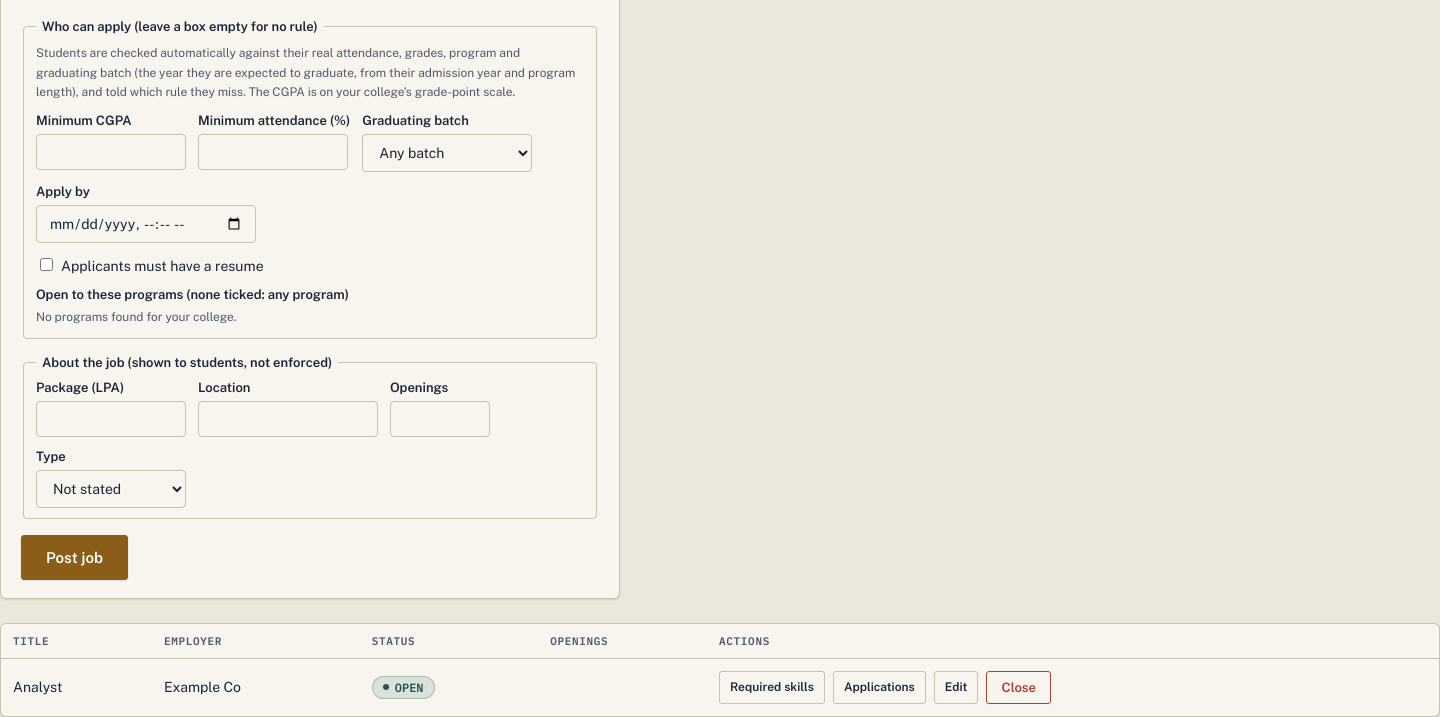
Test case: the placement officer reads the resume an application was made with › offers View resume only where one was attached, and shows it as submitted
The image size is (1440, 717).
(page scrolled)
Click the button "Applications" at (879, 687), box [833, 671, 926, 704]
(page scrolled)
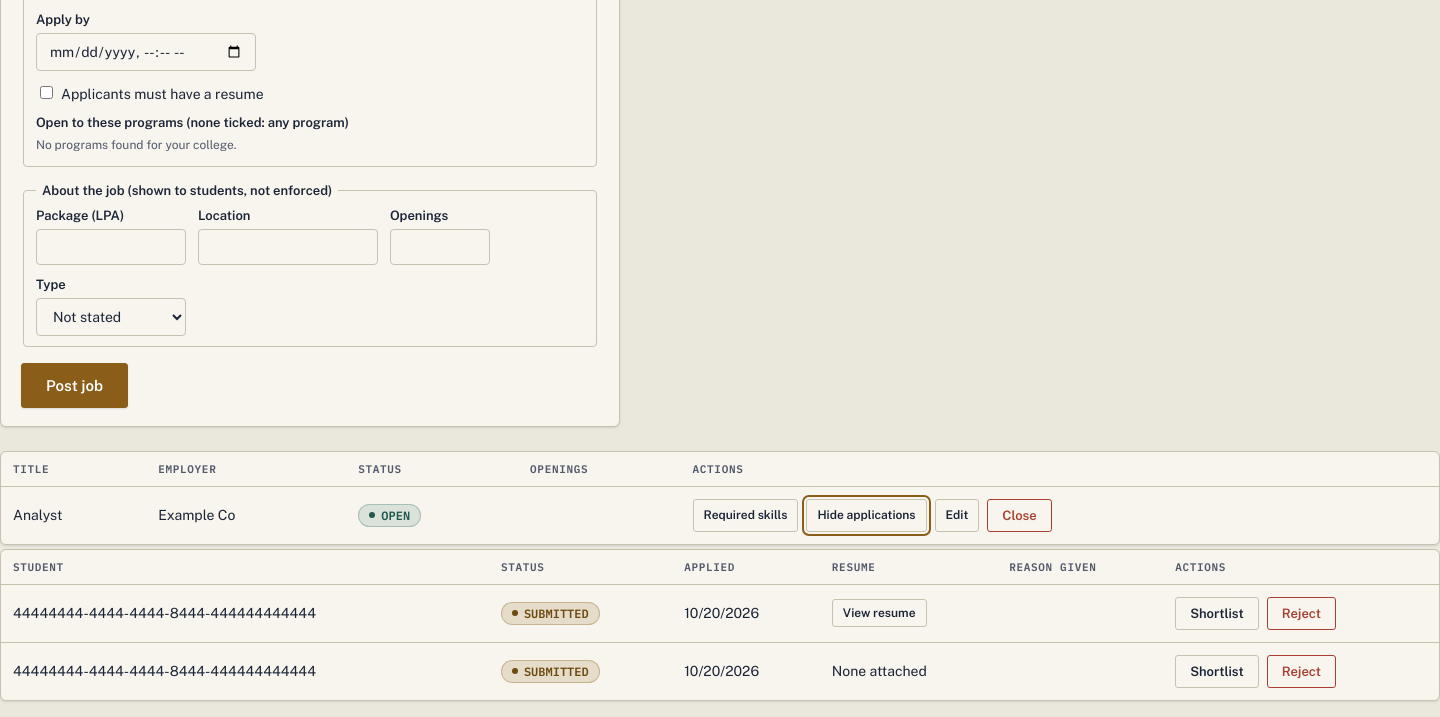
Now the number of buttons "View resume" is 1
Now the text "None attached" is shown, box [820, 642, 997, 700]
Click the button "View resume" at (879, 613), box [832, 599, 927, 627]
(page scrolled)
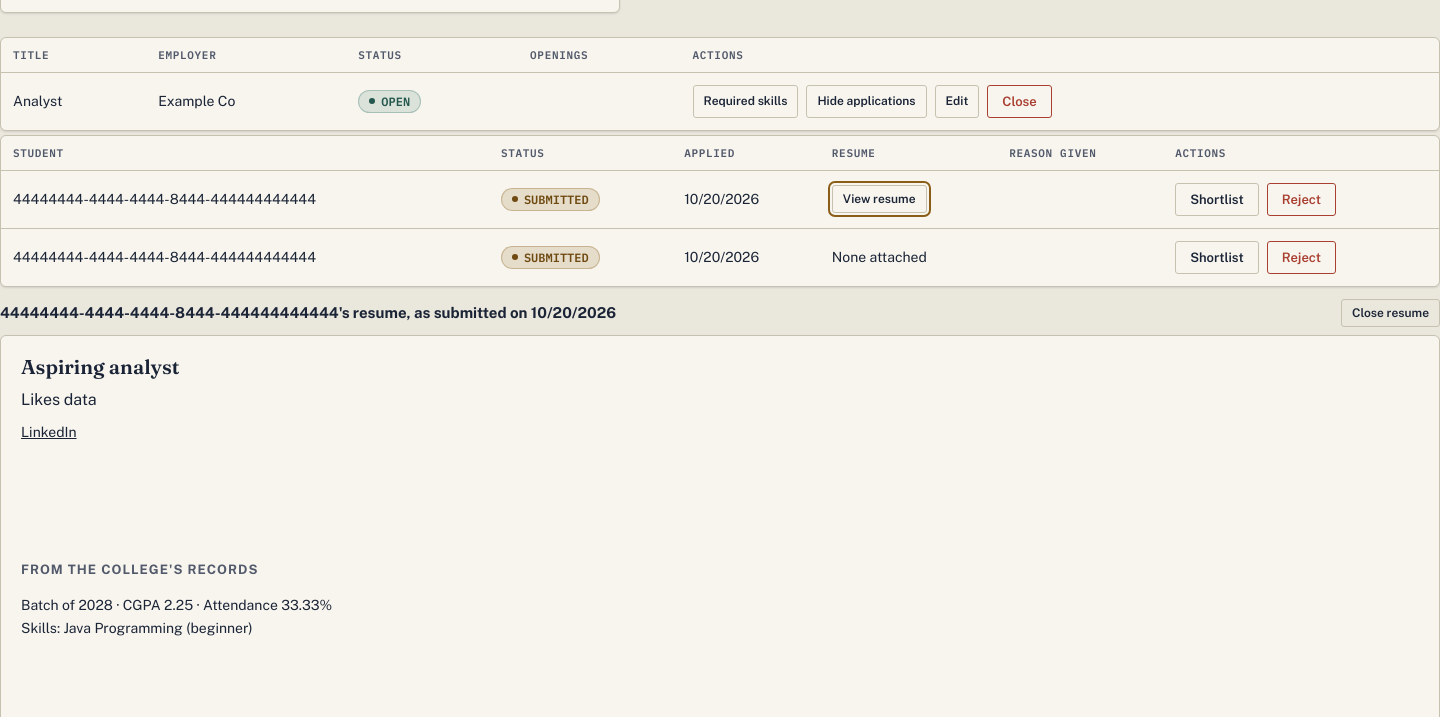
Now the heading "Aspiring analyst" is shown, box [21, 354, 180, 379]
Now the heading "resume, as submitted on" is shown, box [0, 304, 616, 321]
Now the text "Skills: Java Programming (beginner)" is shown, box [21, 620, 253, 636]
Click the button "Close resume" at (1390, 313), box [1341, 299, 1439, 327]
(page scrolled)
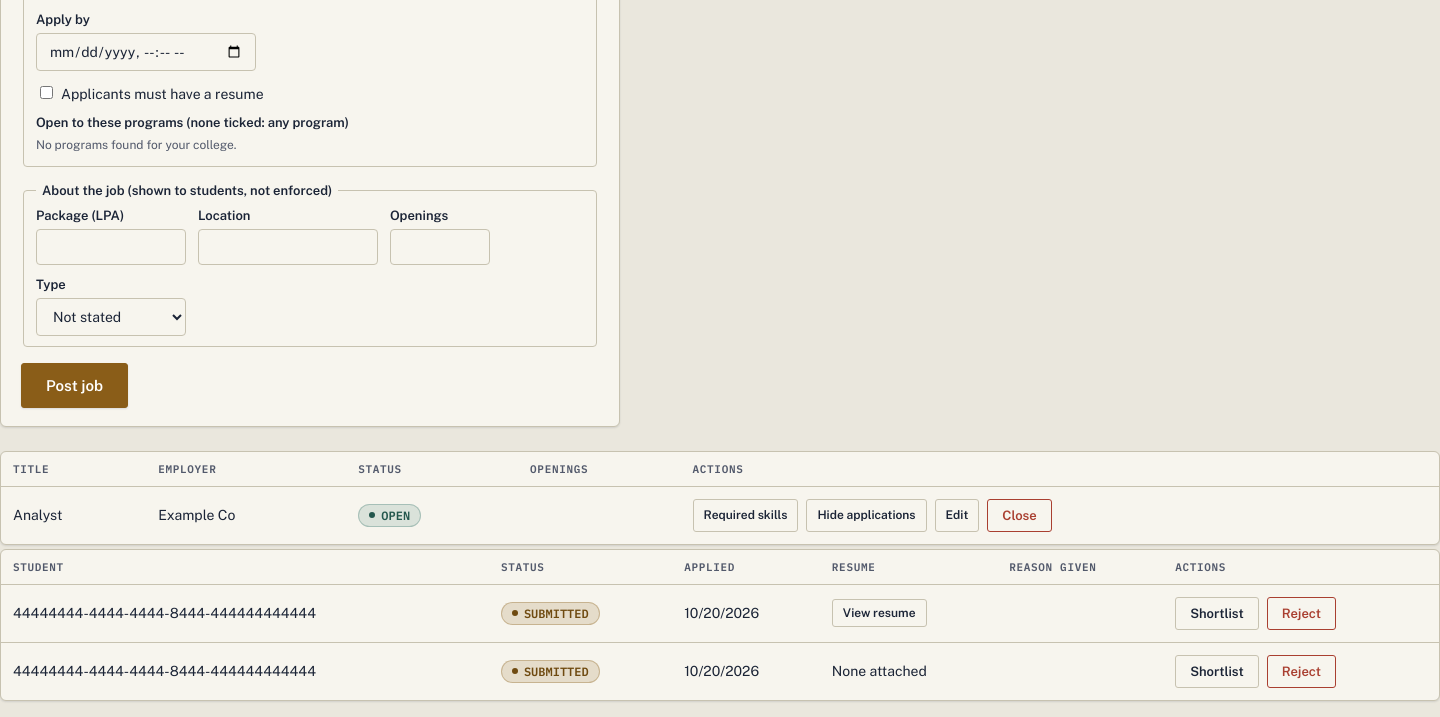
Now the heading "Aspiring analyst" is gone
